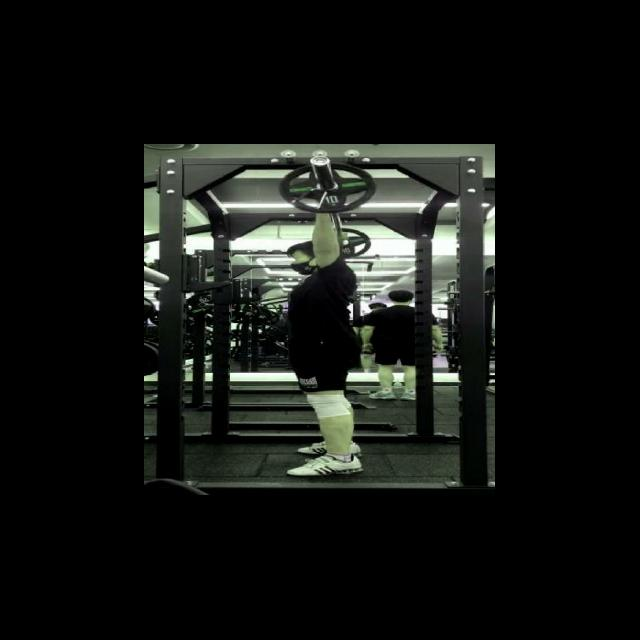barbell: (260, 154, 383, 213)
